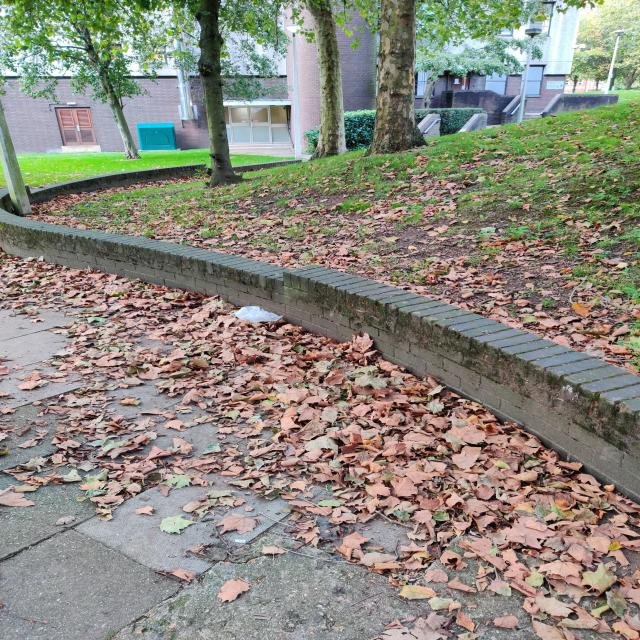litter: (228, 303, 286, 323)
